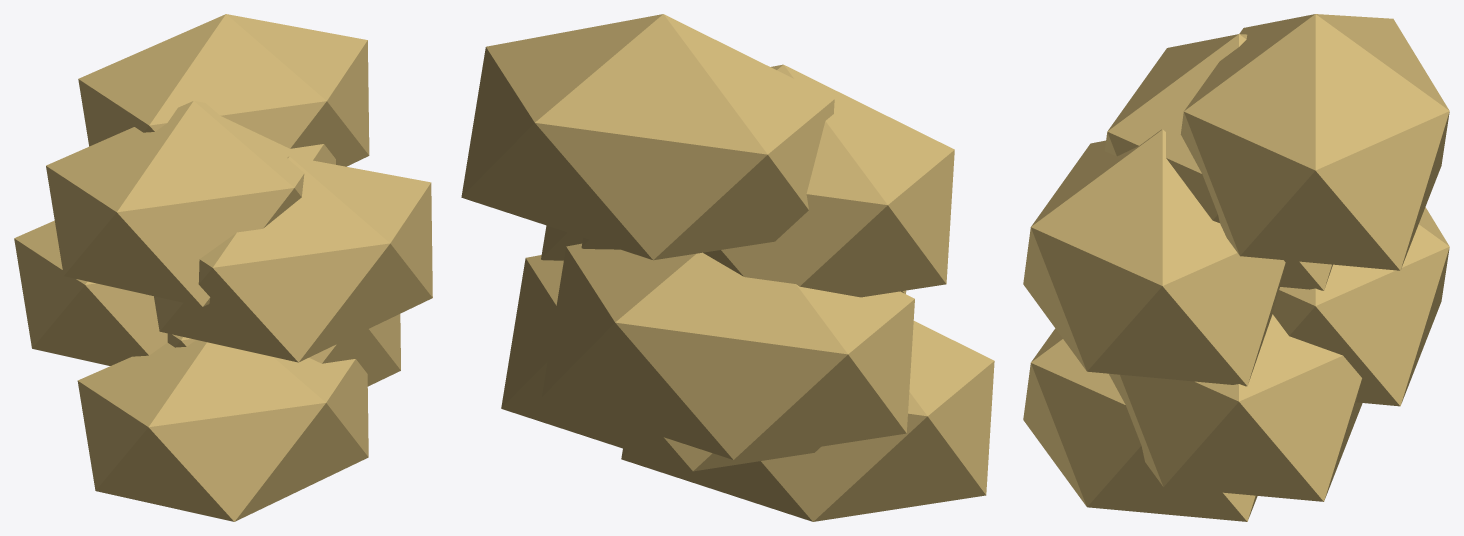
The model's file is item_087_bronze_dagger_l.glb.
3 renders of one model, left to right at view 1: azimuth 30°, elevation 25°; view 2: azimuth 150°, elevation 25°; view 3: azimuth 270°, elevation 25°, orthographic. The views are drawn at different scales.
Parts seen in each view (by area): view 1: item_087_bronze_dagger_l; view 2: item_087_bronze_dagger_l; view 3: item_087_bronze_dagger_l.
Part boxes in pixels (x1=…): item_087_bronze_dagger_l: x1=14, y1=14, x2=432, y2=521; item_087_bronze_dagger_l: x1=461, y1=14, x2=994, y2=521; item_087_bronze_dagger_l: x1=1023, y1=14, x2=1449, y2=521.
Size of the model in its own units: 0.3667 by 0.4485 by 0.3345.
